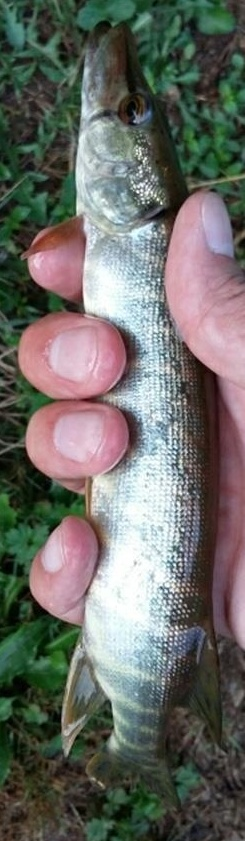Esox lucius: (20, 20, 225, 821)
